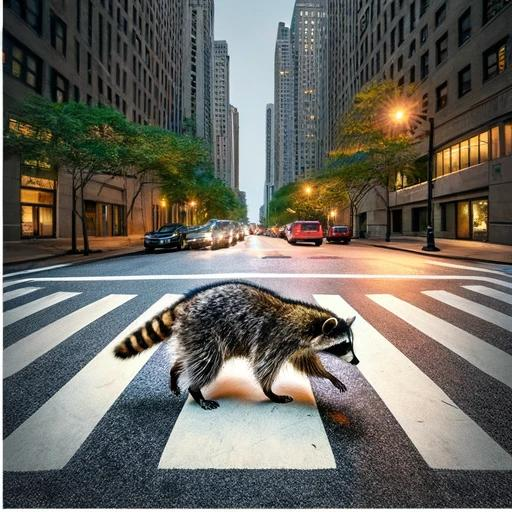raccoon: (106, 275, 368, 416)
